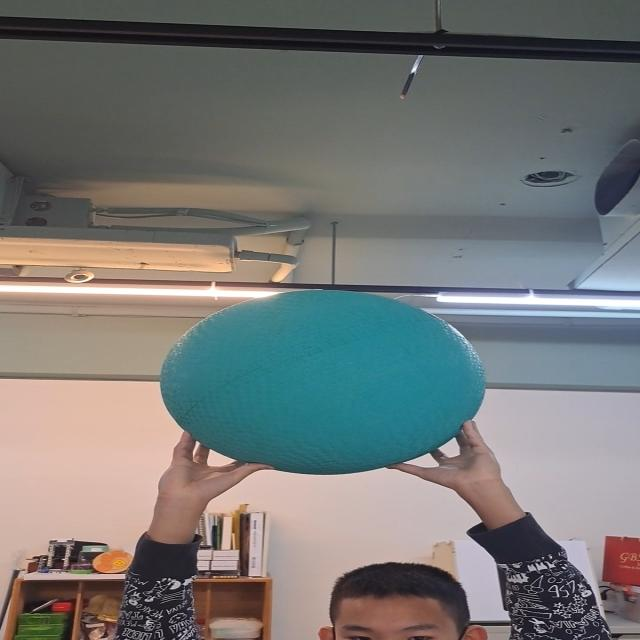ALGAE: (160, 290, 489, 476)
